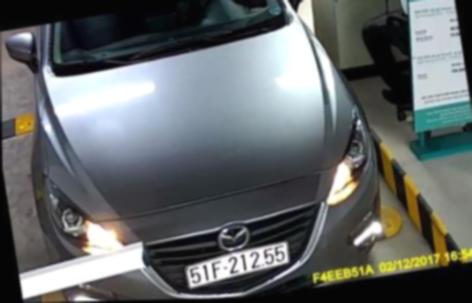License_Plate: (177, 240, 293, 294)
